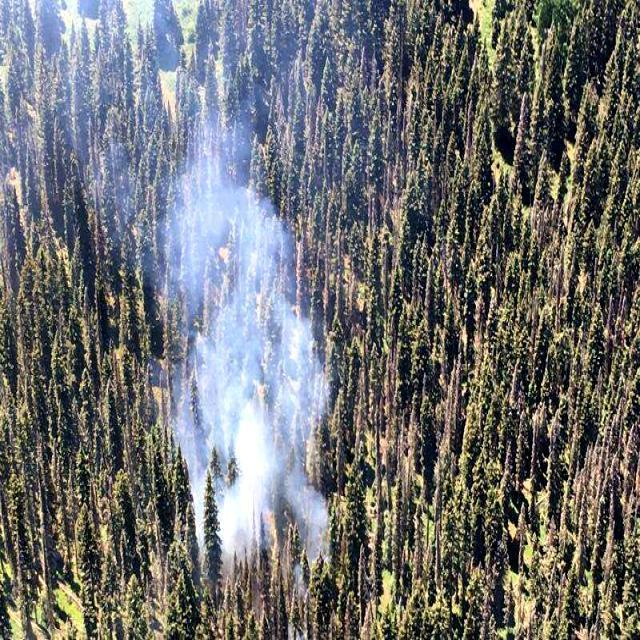Smoke: (126, 81, 338, 561)
